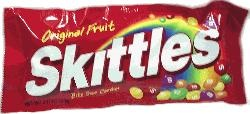grozi_38: (0, 0, 250, 113)
